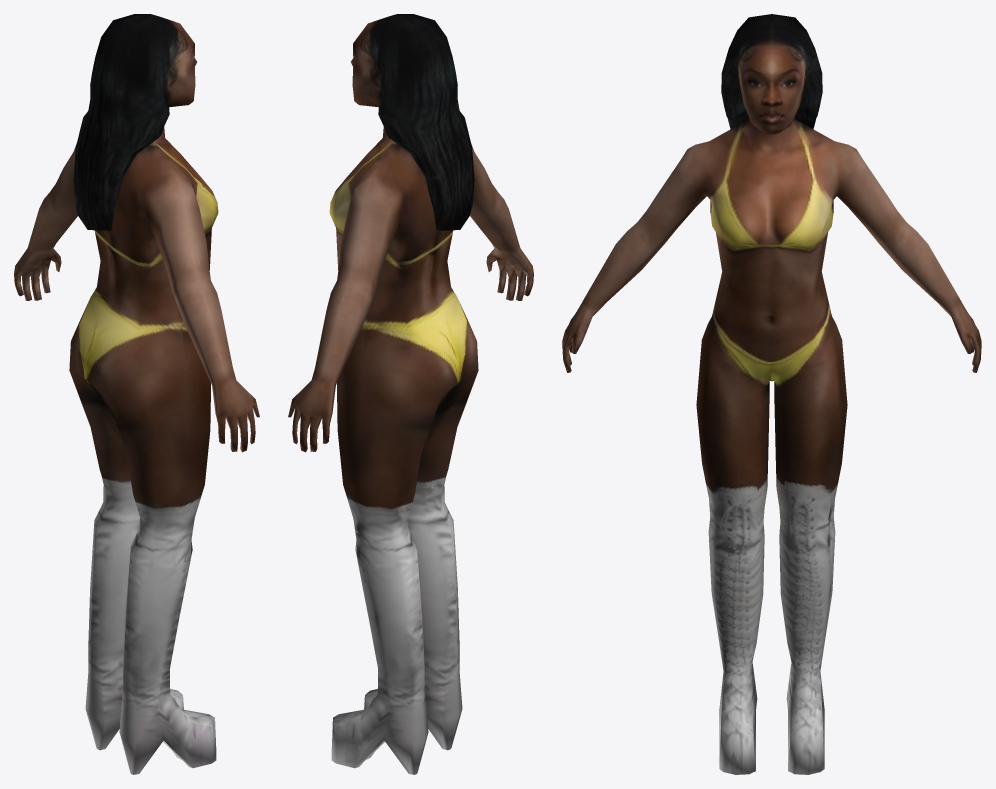
The model's file is Character_56_Female_Exotic_dancer.fbx.
3 renders of one model, left to right at view 1: azimuth 30°, elevation 25°; view 2: azimuth 150°, elevation 25°; view 3: azimuth 270°, elevation 25°, orthographic.
Visible parts, largest first — view 1: Character_56_Female_Exotic_dancer; view 2: Character_56_Female_Exotic_dancer; view 3: Character_56_Female_Exotic_dancer.
Boxes of the visible parts, left/top/right/bottom form: Character_56_Female_Exotic_dancer: left=14, top=14, right=259, bottom=774; Character_56_Female_Exotic_dancer: left=288, top=14, right=533, bottom=774; Character_56_Female_Exotic_dancer: left=562, top=14, right=981, bottom=774.
Size of the model in its own units: 0.2725 by 1.66 by 0.8648.
